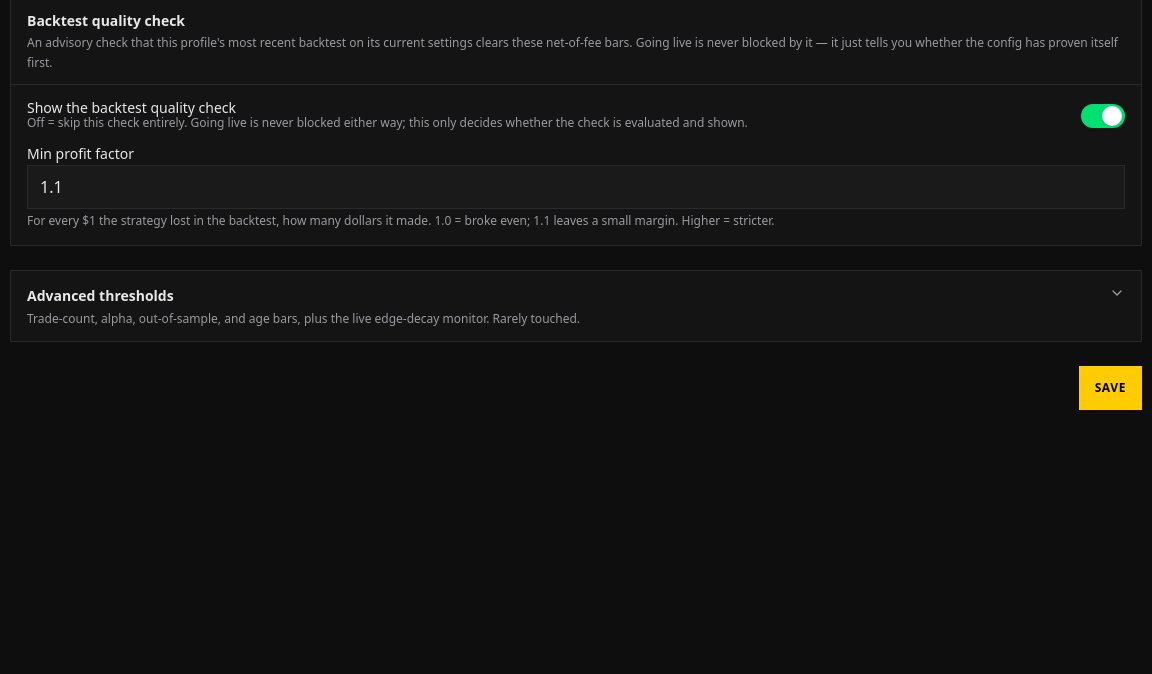
<EnablementPolicyPanel> › hides the monitor thresholds when the monitor is off
This screenshot has width=1152, height=674.
expect the number field labelled "Min profit factor" is shown: met, box [27,165,1125,209]
Step 1. Click the heading with test id "gate-advanced-toggle" → click(100, 296), box [11,271,1141,340]
(page scrolled)
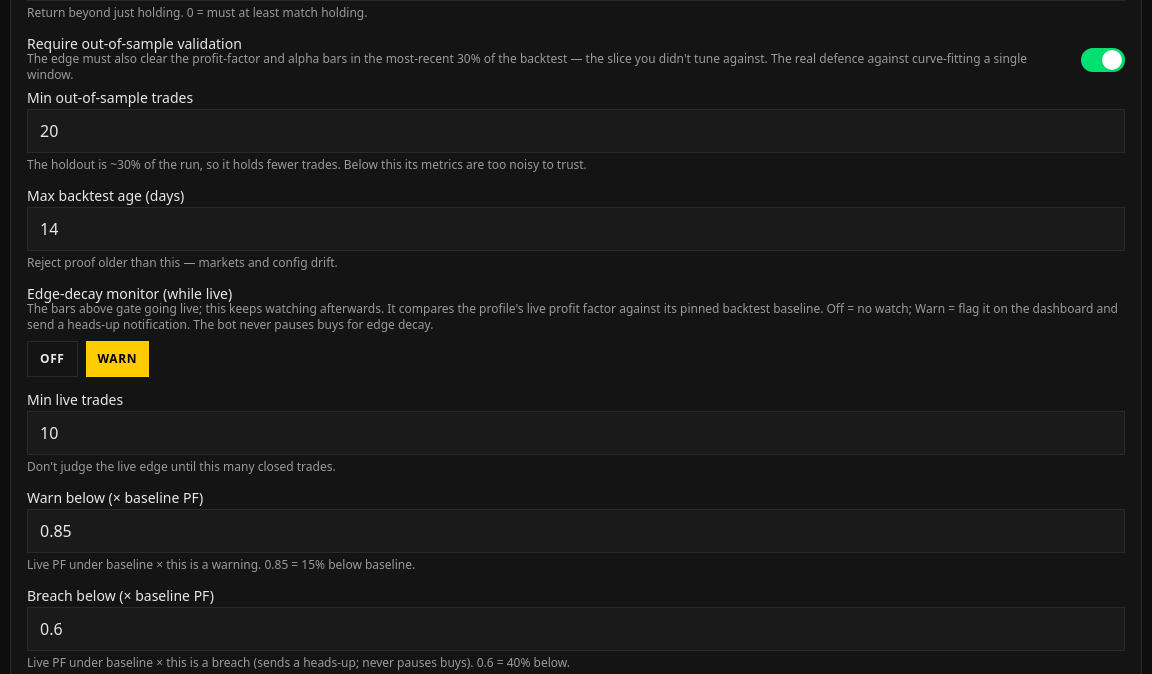
Step 2. Click the button with test id "monitor-mode-off" → click(52, 358), box [27,340,78,376]
(page scrolled)
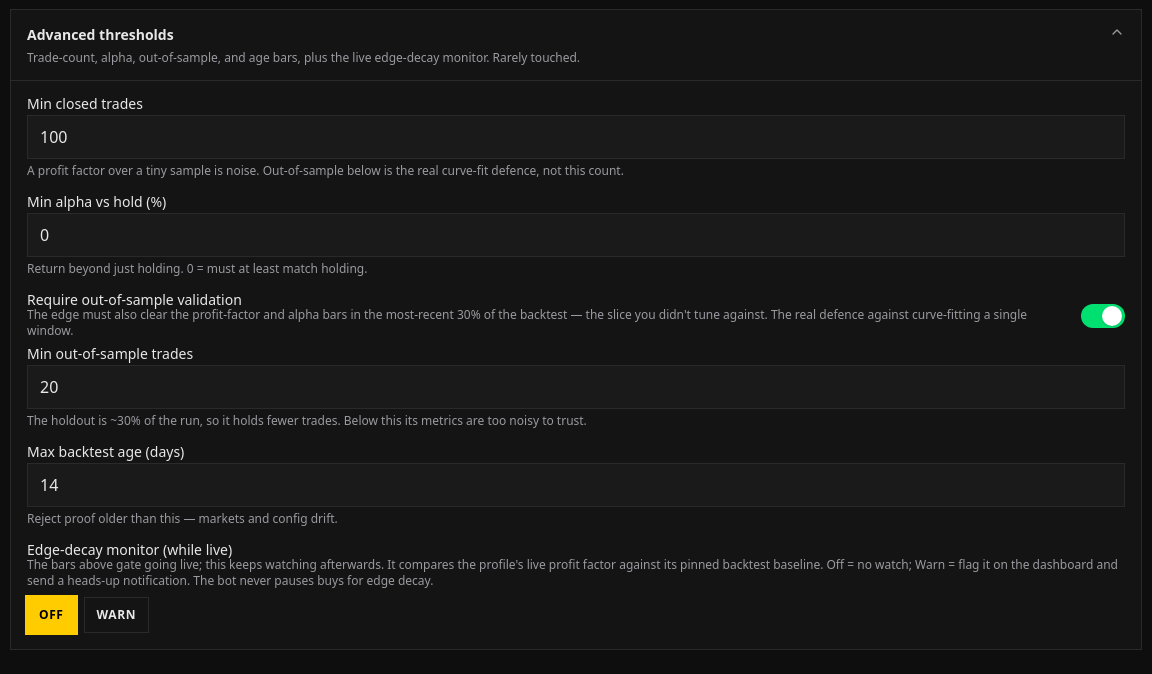
expect the label labelled "Min live trades" is gone: met
